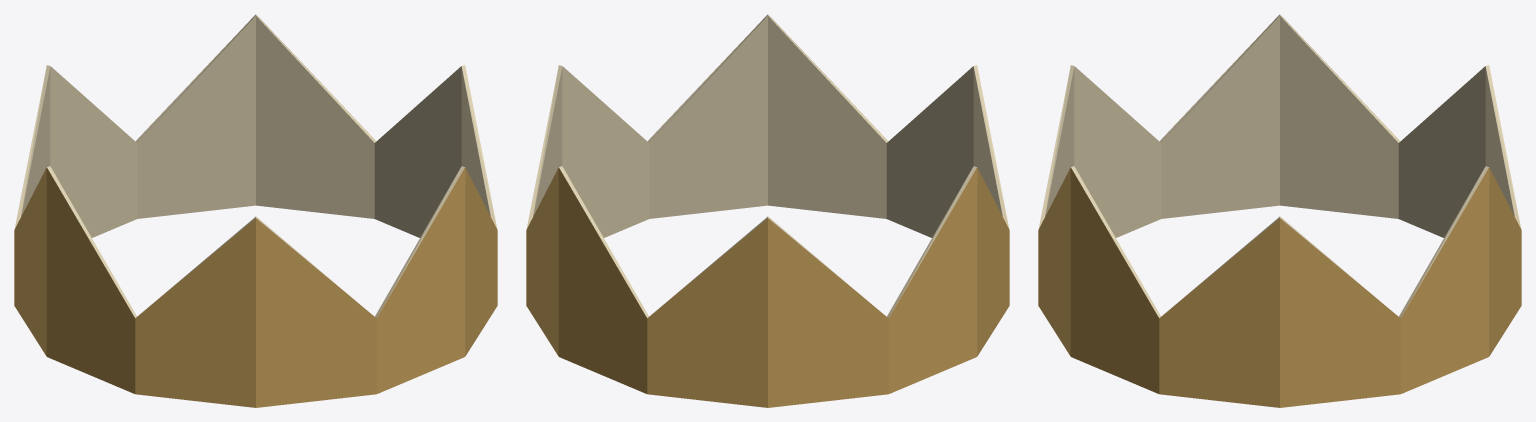
The picture shows the model from 3 angles, left to right: view 1: azimuth 30°, elevation 25°; view 2: azimuth 150°, elevation 25°; view 3: azimuth 270°, elevation 25°; orthographic projection.
Parts seen in each view (by area): view 1: WholeSixPointPaperCrown; view 2: WholeSixPointPaperCrown; view 3: WholeSixPointPaperCrown.
Part boxes in pixels (left/top/right/bottom): WholeSixPointPaperCrown: left=14, top=14, right=497, bottom=407; WholeSixPointPaperCrown: left=526, top=14, right=1009, bottom=407; WholeSixPointPaperCrown: left=1038, top=14, right=1521, bottom=407.
Bounding box in the file's own units: 0.173 × 0.075 × 0.173.
